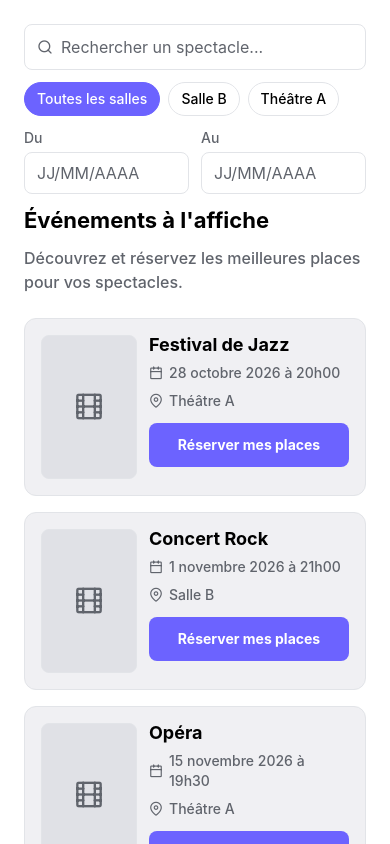
EventsListScreen › filtres par date et par lieu (#21) › filtre par plage de dates, la date de fin incluse
Step 1. Type "29/10/2026" into the field named "Du" → coordinates (106, 173), box left=24, top=152, right=189, bottom=194
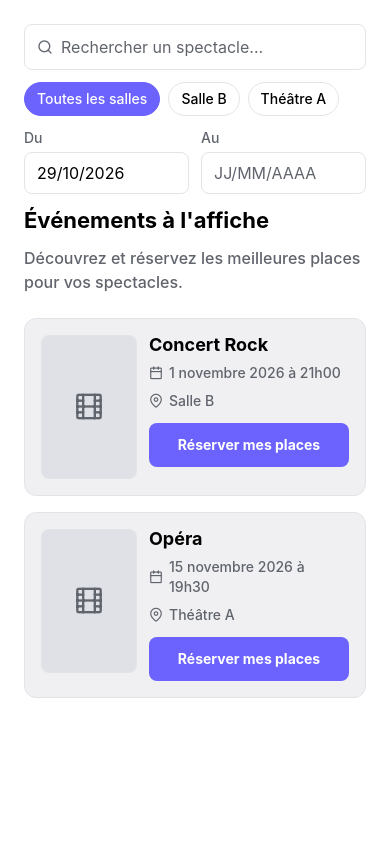
Step 2. Type "01/11/2026" into the field named "Au" → coordinates (284, 173), box left=201, top=152, right=366, bottom=194
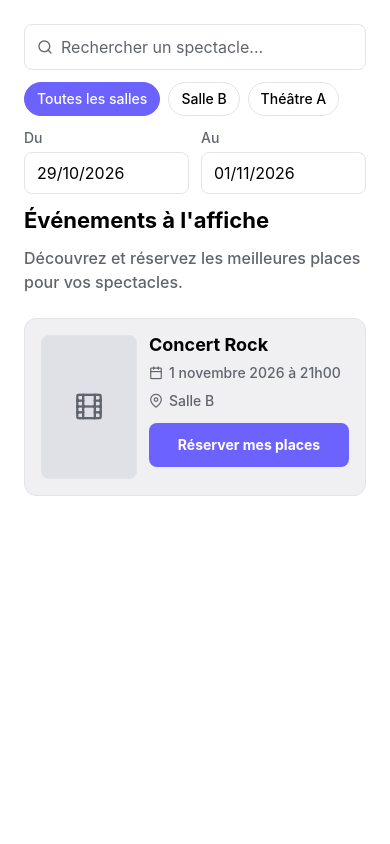
expect the text "Concert Rock" is shown: met, box left=149, top=334, right=268, bottom=355
expect the text "Opéra" is gone: met
